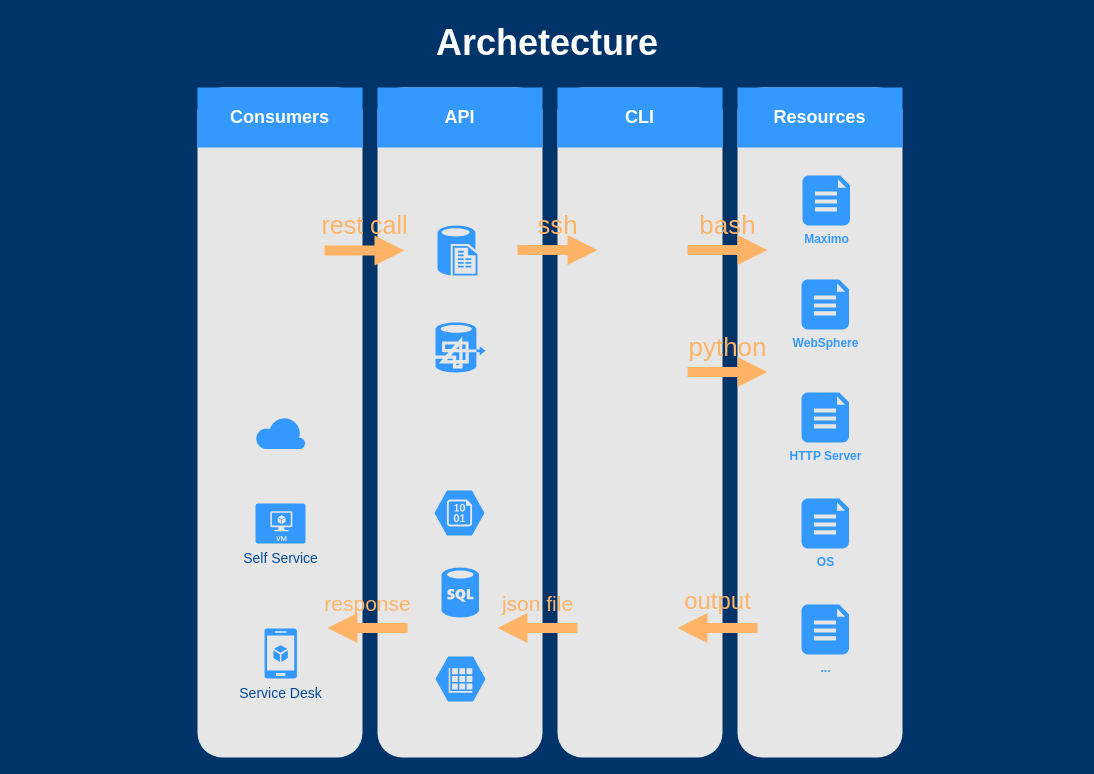
Image size: 1094x774. Some labels were removed from this diagram. The centre of each missing label's shape, as x and y in pixels:
Blobs: the point at 459,512
ChatOps: the point at 280,432
HDInsight: the point at 460,347
SQL Database: the point at 459,592
SQL Reporting: the point at 457,250
Tables: the point at 460,678
